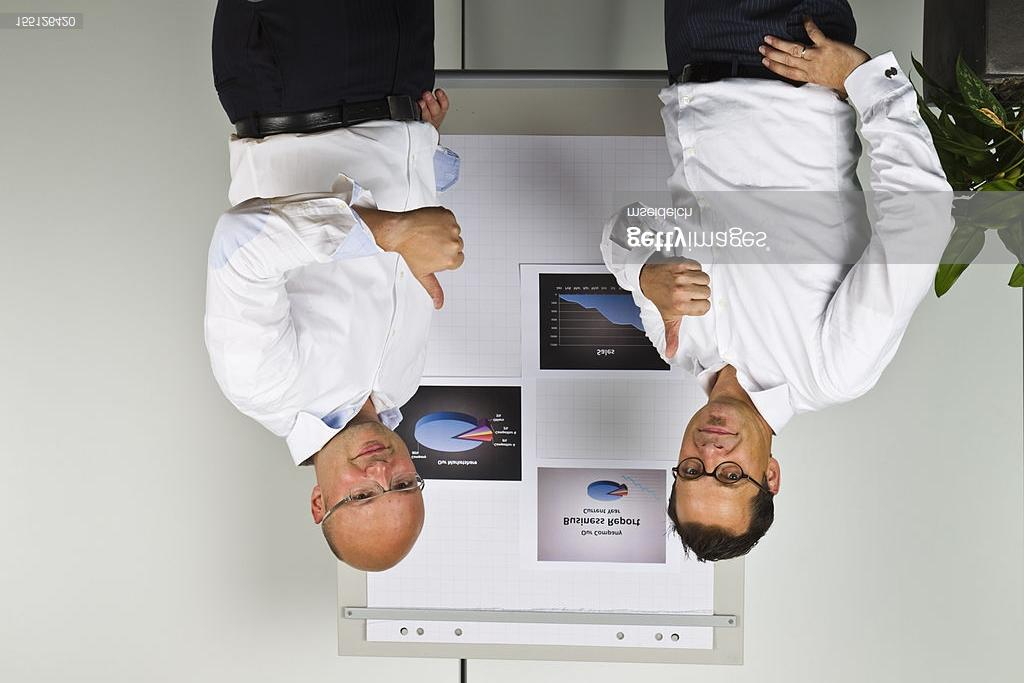thumbsdown: (412, 206, 465, 310), (662, 256, 712, 359)
